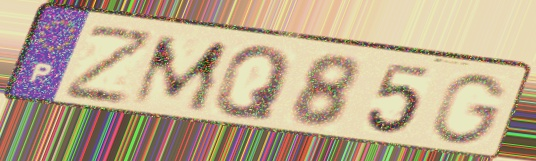5: (360, 62, 439, 137)
8: (289, 52, 362, 132)
G: (428, 71, 512, 148)
M: (126, 34, 233, 115)
Q: (210, 44, 295, 124)
Z: (61, 25, 160, 107)
